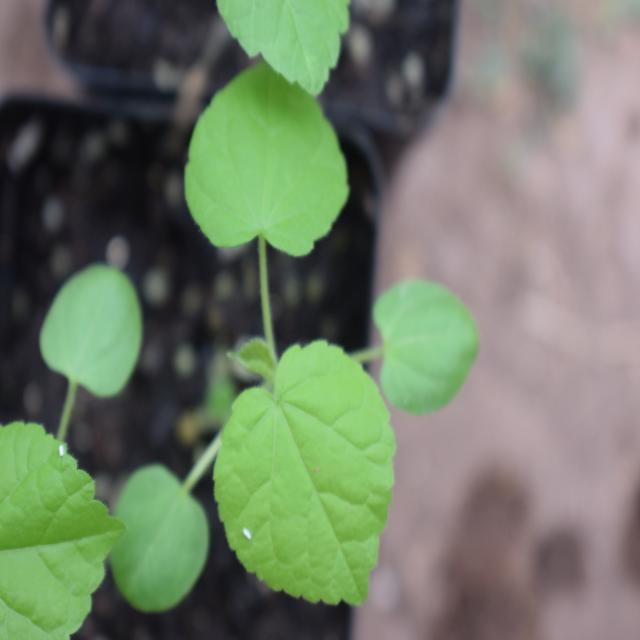abutilon theophrasti: (102, 43, 466, 612)
